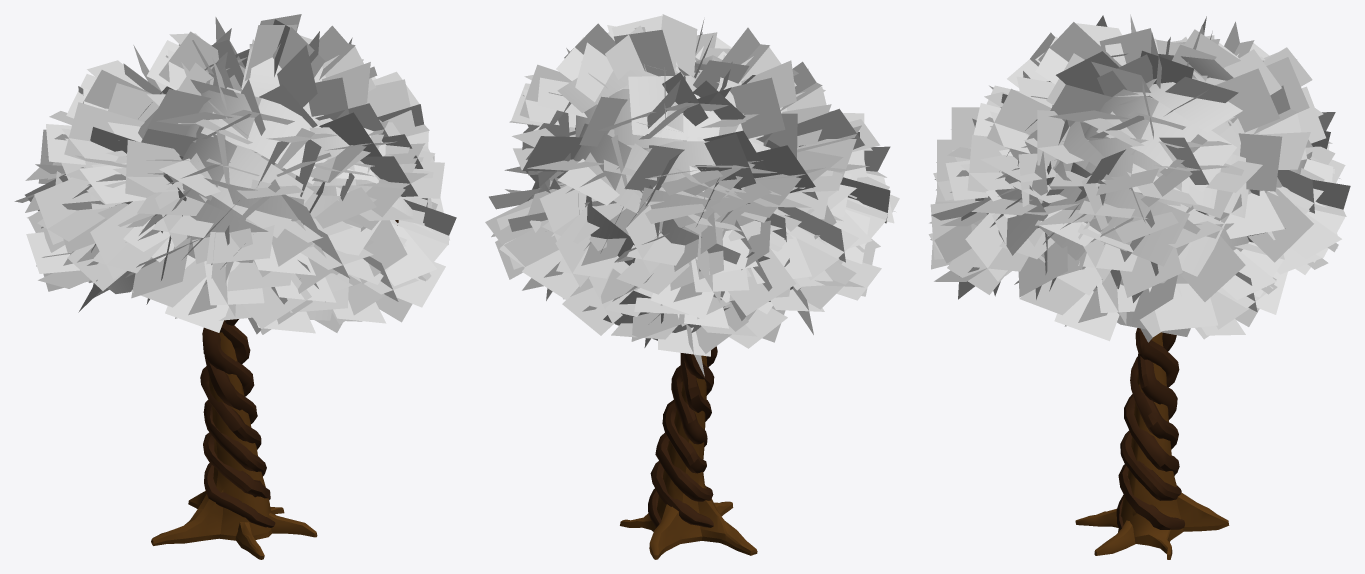
File: MF_Dschungletree_3.FBX
The picture shows the model from 3 angles, left to right: view 1: azimuth 30°, elevation 25°; view 2: azimuth 150°, elevation 25°; view 3: azimuth 270°, elevation 25°; orthographic projection. The views are drawn at different scales.
Parts seen in each view (by area): view 1: Leaves, Dschungletree_3; view 2: Leaves, Dschungletree_3; view 3: Leaves, Dschungletree_3.
Boxes of the visible parts, <box> form: Leaves: <box>14,14,456,334</box>; Dschungletree_3: <box>151,220,398,559</box>; Leaves: <box>485,14,899,376</box>; Dschungletree_3: <box>620,346,757,559</box>; Leaves: <box>928,14,1350,342</box>; Dschungletree_3: <box>1075,328,1229,559</box>.
Bounding box in the file's own units: 14.2 × 13.9 × 18.59.
